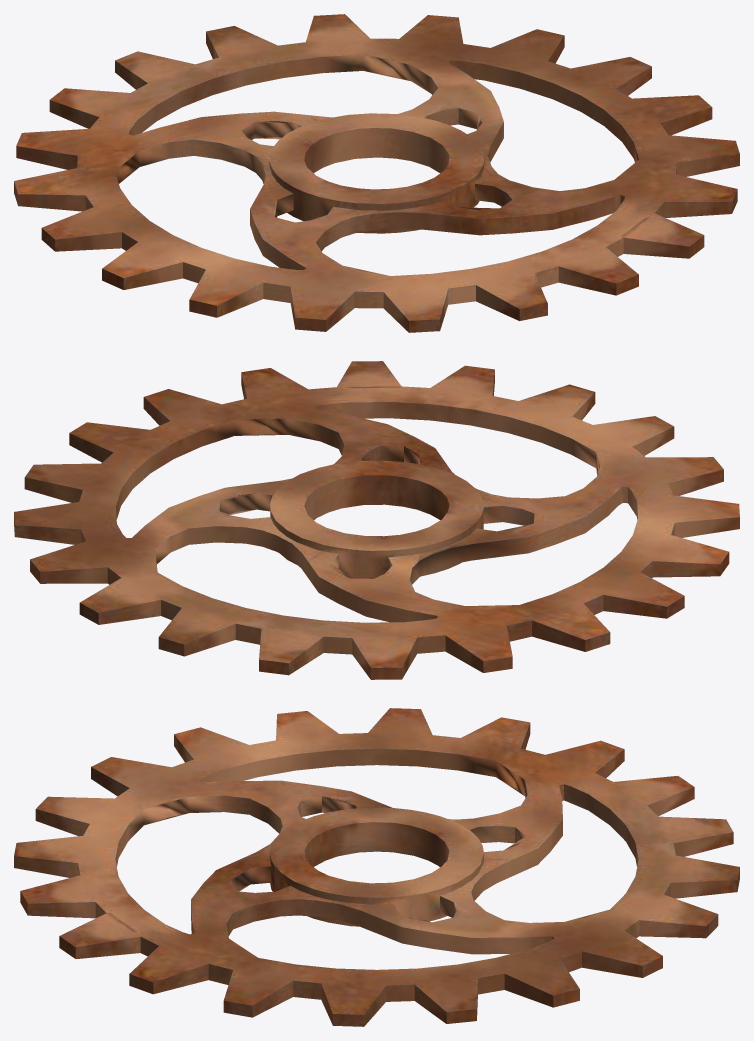
Rendered from steampunk_gear_01.glb.
3 views of the same model, one above another, from view 1: azimuth 30°, elevation 25°; view 2: azimuth 150°, elevation 25°; view 3: azimuth 270°, elevation 25° (orthographic).
Parts seen in each view (by area): view 1: steampunk_gear_01; view 2: steampunk_gear_01; view 3: steampunk_gear_01.
Part boxes in pixels (x1=…): steampunk_gear_01: x1=14, y1=14, x2=739, y2=332; steampunk_gear_01: x1=14, y1=361, x2=739, y2=679; steampunk_gear_01: x1=14, y1=708, x2=739, y2=1026.
Size of what is drawn, in the model's own units: 0.1591 by 0.00715 by 0.1591.
Materials: 1 (1 with a texture image).
